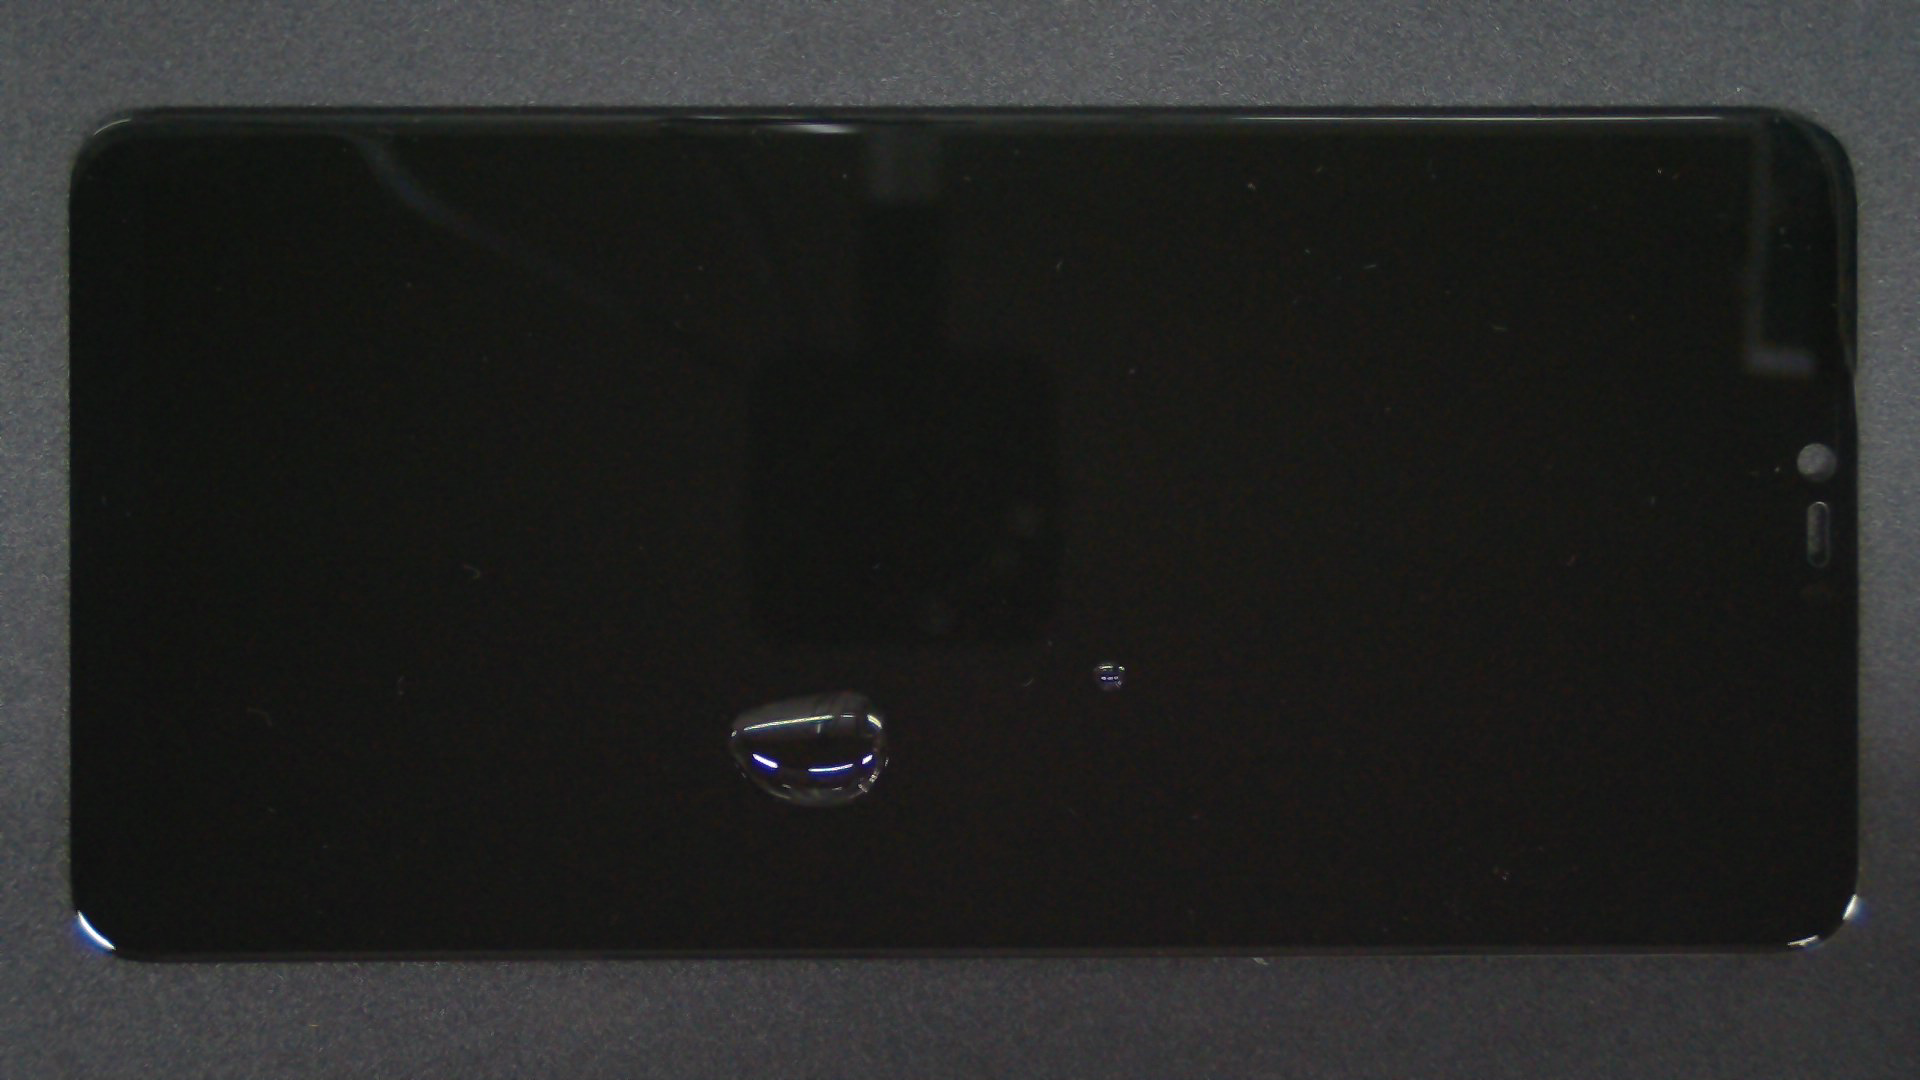defect: (727, 690, 889, 808), (1092, 659, 1125, 691)
